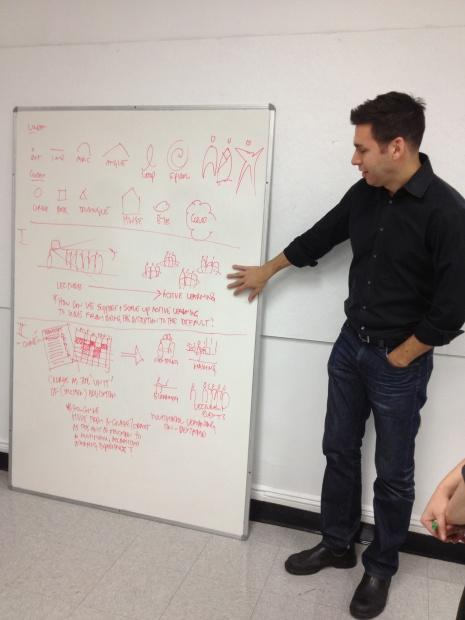Whiteboard: (6, 102, 276, 540)
